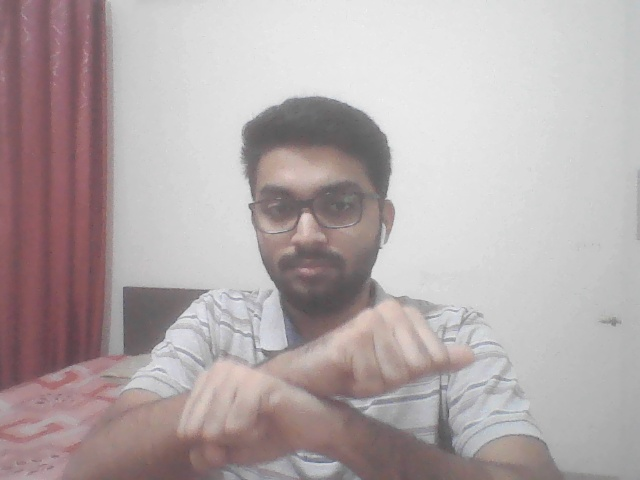work: (161, 297, 478, 468)
